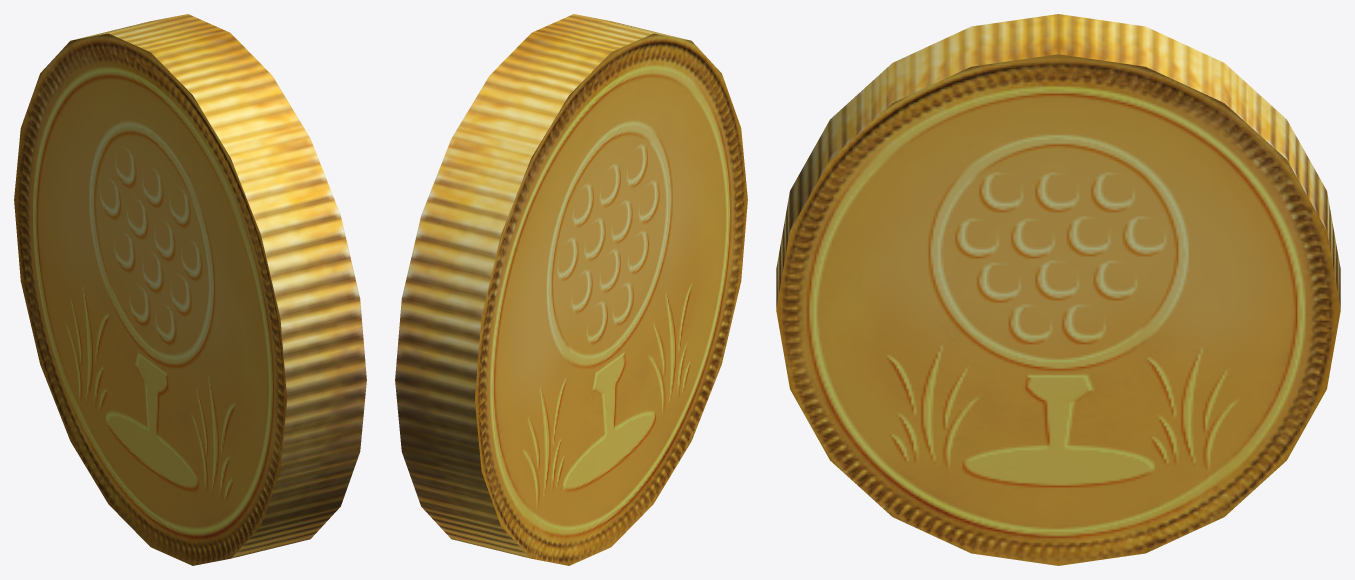
Rendered from coinMesh.FBX.
The picture shows the model from 3 angles, left to right: view 1: azimuth 30°, elevation 25°; view 2: azimuth 150°, elevation 25°; view 3: azimuth 270°, elevation 25°; orthographic projection. The views are drawn at different scales.
Parts seen in each view (by area): view 1: coin; view 2: coin; view 3: coin.
Part boxes in pixels (left/top/right/bottom): coin: left=14, top=14, right=366, bottom=565; coin: left=395, top=14, right=747, bottom=565; coin: left=776, top=14, right=1340, bottom=565.
Bounding box in the file's own units: 53.79 × 319 × 319.
